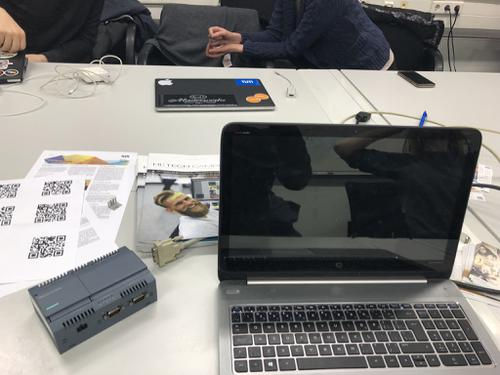device: (28, 246, 158, 355)
